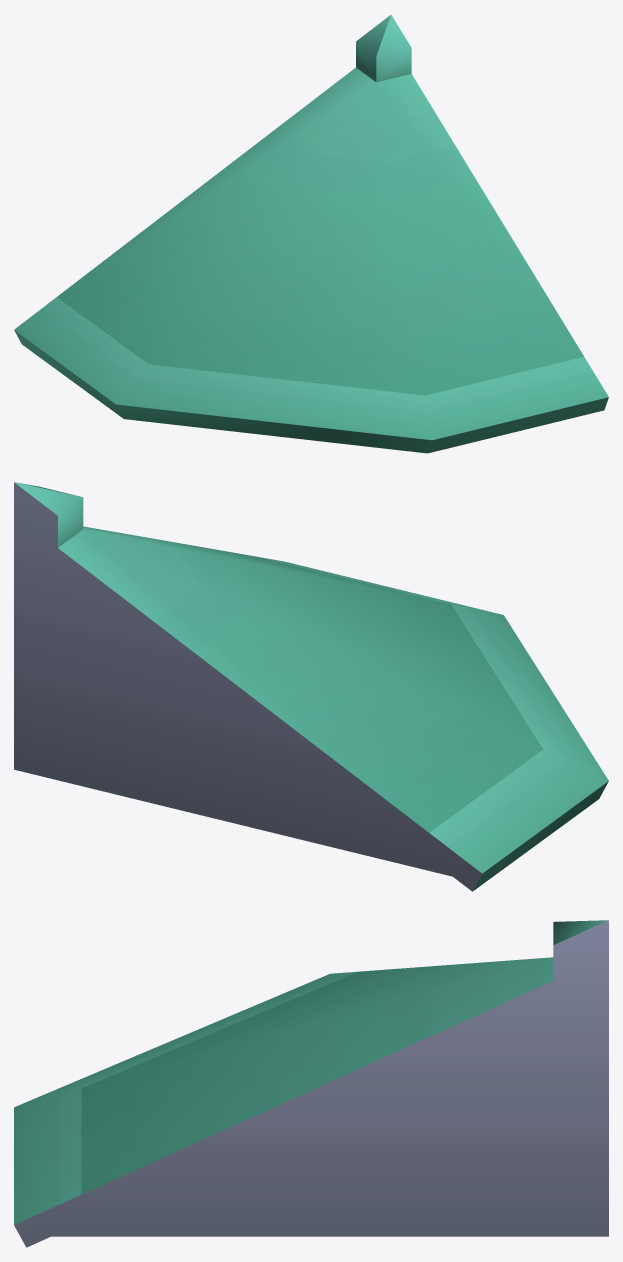
Rendered from roof-corner-round.glb.
3 views of the same model, one above another, from view 1: azimuth 30°, elevation 25°; view 2: azimuth 150°, elevation 25°; view 3: azimuth 270°, elevation 25° (orthographic). The views are drawn at different scales.
Parts seen in each view (by area): view 1: roof-corner-round; view 2: roof-corner-round; view 3: roof-corner-round.
Boxes of the visible parts, x1,y1,x2,y2 form: roof-corner-round: (14, 15, 608, 453); roof-corner-round: (14, 482, 608, 891); roof-corner-round: (14, 920, 608, 1247).
Bounding box in the file's own units: 1.07 × 0.6483 × 1.07.
1 material, 1 textured.
